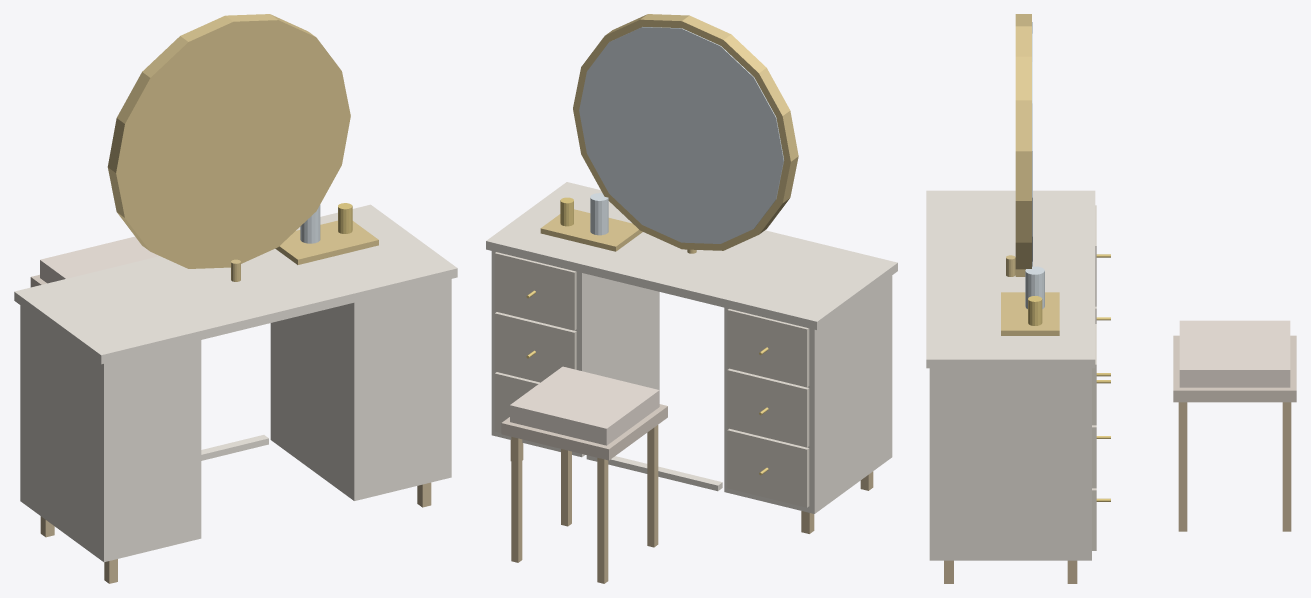
The model's file is dressing_table.glb.
3 views of the same model, side by side, from view 1: azimuth 30°, elevation 25°; view 2: azimuth 150°, elevation 25°; view 3: azimuth 270°, elevation 25° (orthographic). The views are drawn at different scales.
Visible parts, largest first — view 1: DressingTable; view 2: DressingTable; view 3: DressingTable.
Boxes of the visible parts, box(x1,y1,x2,y2) form: DressingTable: box(14, 14, 457, 583); DressingTable: box(486, 14, 897, 583); DressingTable: box(926, 14, 1296, 583).
Size of the model in its own units: 1.23 by 1.64 by 1.14.
